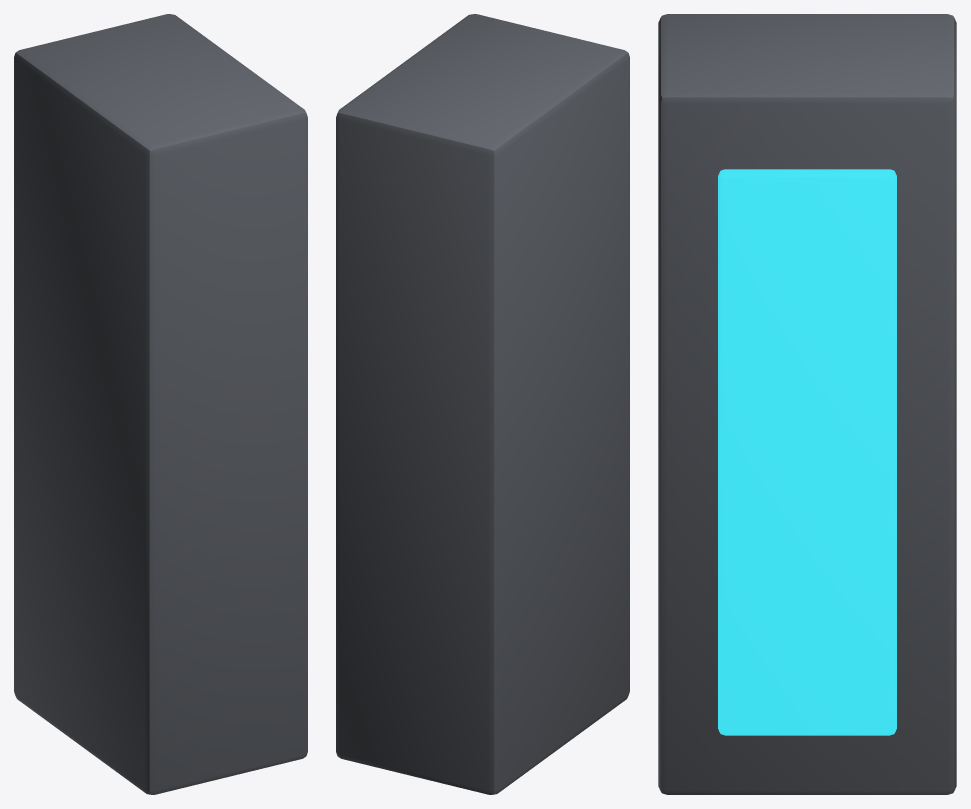
Rendered from cell_zarya4.glb.
3 renders of one model, left to right at view 1: azimuth 30°, elevation 25°; view 2: azimuth 150°, elevation 25°; view 3: azimuth 270°, elevation 25°, orthographic. The views are drawn at different scales.
Visible parts, largest first — view 1: cell_zarya4_body; view 2: cell_zarya4_body; view 3: cell_zarya4_body, cell_zarya4_strip.
Boxes of the visible parts, <box> form: cell_zarya4_body: <box>14,14,307,794</box>; cell_zarya4_body: <box>336,14,629,794</box>; cell_zarya4_body: <box>658,14,956,794</box>; cell_zarya4_strip: <box>718,169,896,735</box>.
Size of the model in its own units: 0.038 by 0.13 by 0.05.
